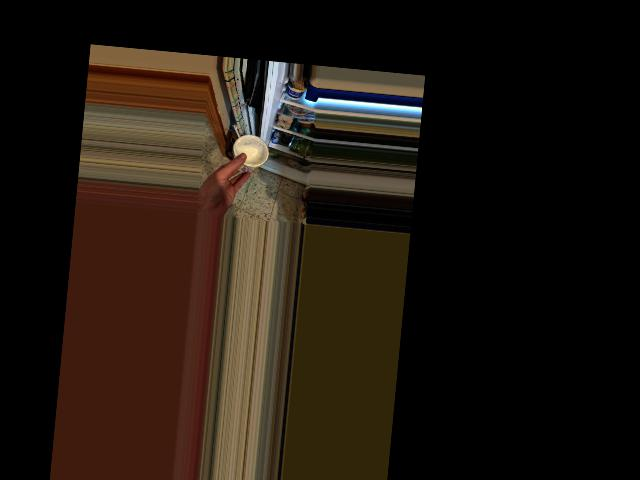cotage: (227, 131, 266, 177)
